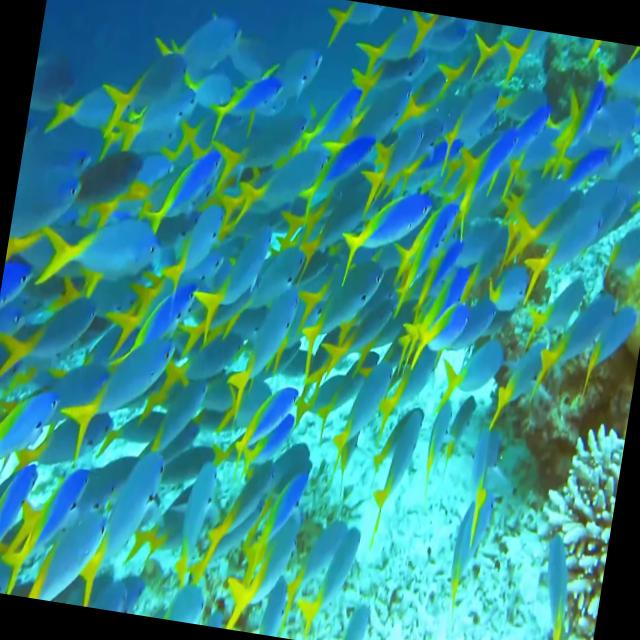fish: (75, 427, 182, 618), (175, 190, 286, 356), (288, 240, 396, 398), (317, 40, 423, 192), (60, 322, 182, 450), (227, 106, 339, 245), (38, 188, 168, 304), (517, 173, 614, 325), (327, 167, 440, 289), (13, 483, 118, 609), (0, 416, 94, 556), (0, 276, 107, 396), (213, 278, 304, 418), (154, 187, 238, 321), (143, 122, 234, 238), (290, 511, 370, 640), (368, 396, 434, 542), (518, 517, 594, 640), (208, 444, 282, 570), (104, 36, 200, 132), (440, 468, 504, 612), (281, 495, 349, 629), (326, 341, 394, 473), (169, 438, 228, 588), (224, 228, 314, 318), (166, 0, 249, 87), (0, 382, 61, 499), (43, 68, 124, 142), (404, 289, 476, 371), (0, 446, 39, 596), (12, 153, 86, 232), (581, 284, 640, 383), (21, 106, 105, 174), (262, 32, 336, 107), (583, 40, 640, 131), (394, 9, 474, 61), (600, 214, 640, 307), (500, 26, 562, 82), (462, 20, 507, 96), (485, 256, 536, 320), (319, 0, 385, 47), (0, 245, 42, 311), (0, 290, 33, 345)
